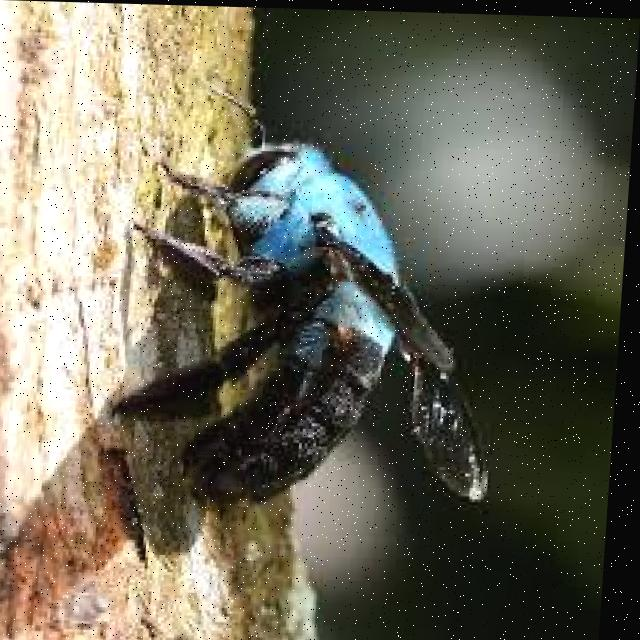Xylocopa: (122, 67, 538, 538)
